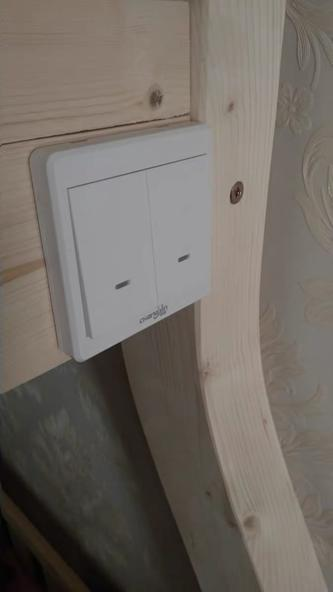switch: (66, 163, 171, 345), (139, 147, 215, 303)
